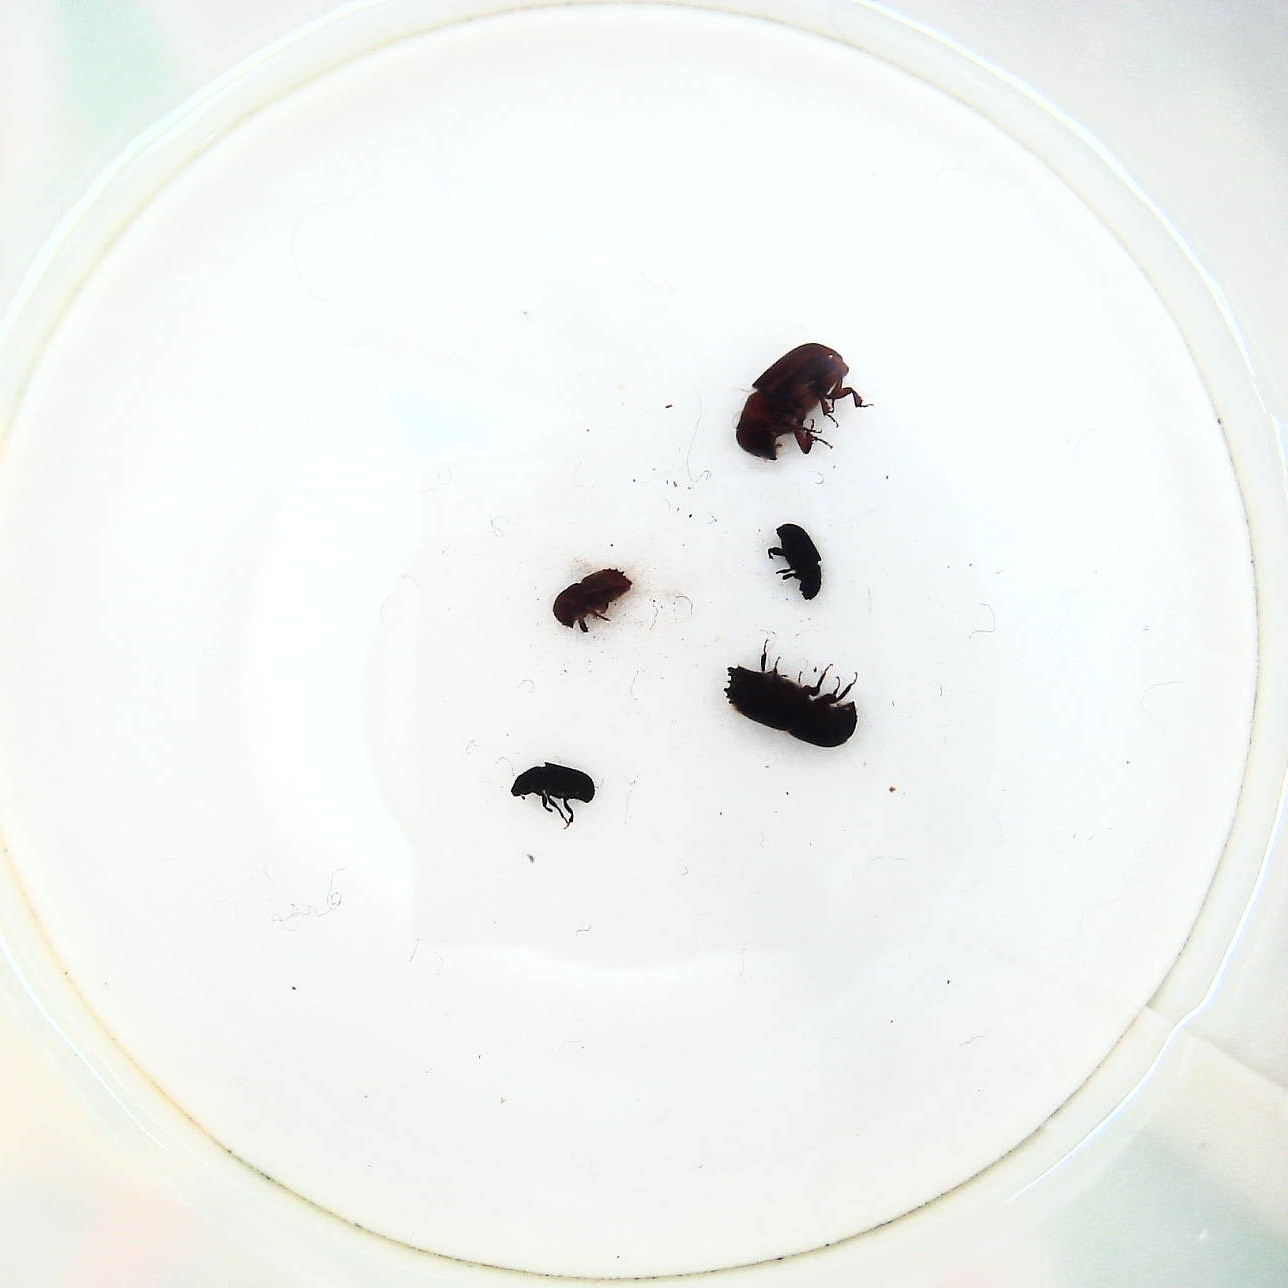Boerner: (724, 631, 863, 756)
Leconte: (728, 339, 872, 465)
armandi: (770, 517, 826, 602)
coleoptera: (511, 761, 597, 832)
linnaeus: (545, 565, 640, 639)
